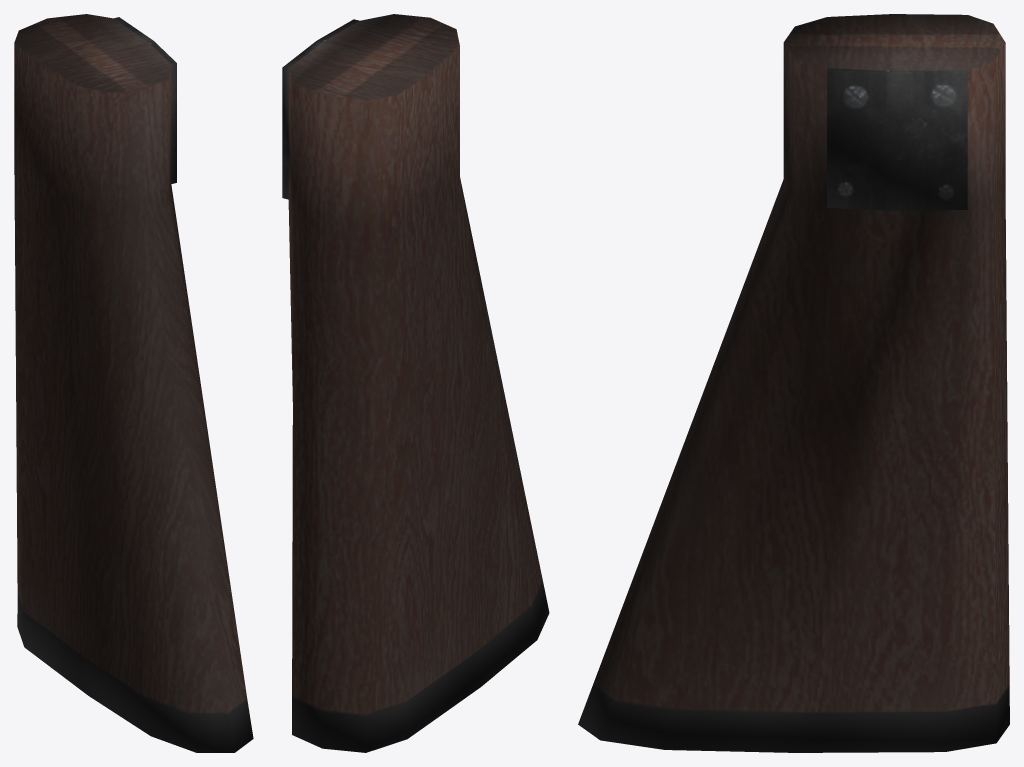
Rendered from TLOG_FullAutoRifleStock.fbx.
3 renders of one model, left to right at view 1: azimuth 30°, elevation 25°; view 2: azimuth 150°, elevation 25°; view 3: azimuth 270°, elevation 25°, orthographic. The views are drawn at different scales.
Parts seen in each view (by area): view 1: fullautorifleRS.001; view 2: fullautorifleRS.001; view 3: fullautorifleRS.001.
Boxes of the visible parts, <box> form: fullautorifleRS.001: <box>14,14,253,752</box>; fullautorifleRS.001: <box>282,14,549,752</box>; fullautorifleRS.001: <box>578,14,1009,752</box>.
Bounding box in the file's own units: 0.022 × 0.1165 × 0.0669.
